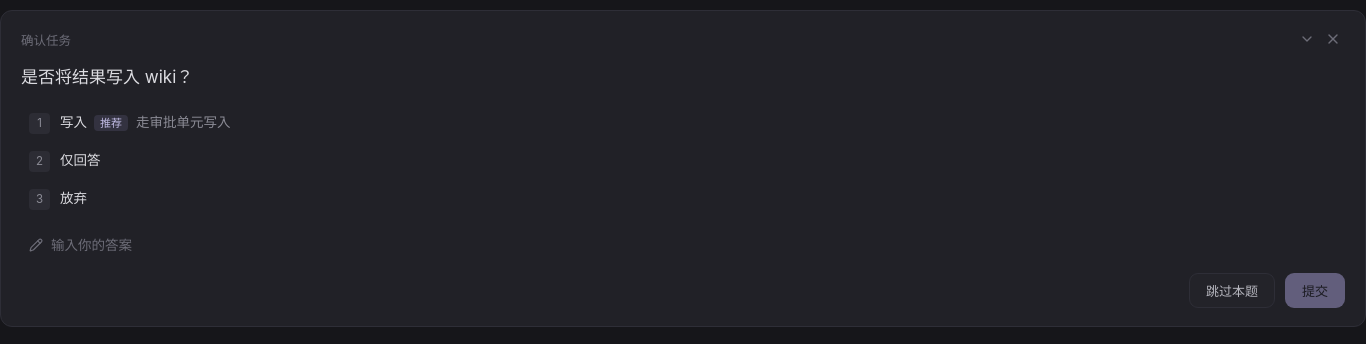
it: QuestionCard › keeps 提交 disabled until an option is picked or text is typed
Expected: the button "提交" is disabled, [1285,272,1345,308]
Click the radio button labelled "2 仅回答" at {"x": 80, "y": 160}, box [21,142,1345,178]
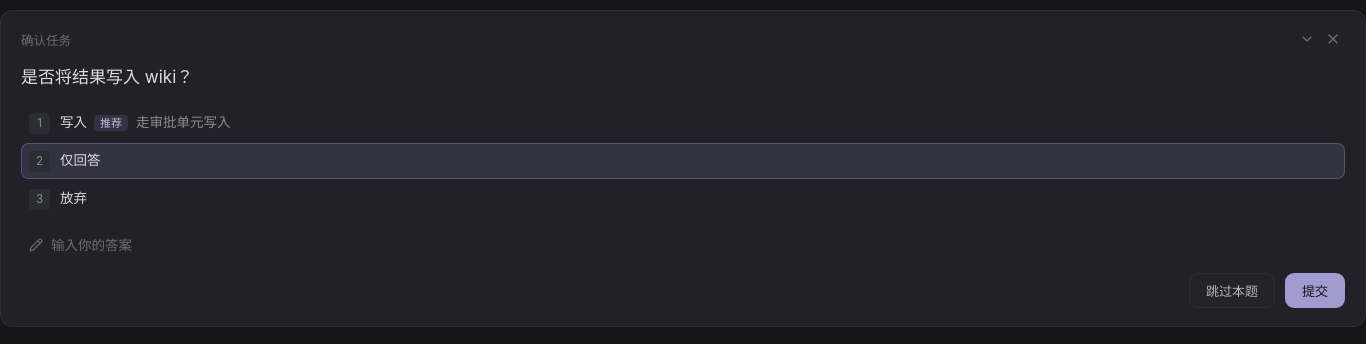
Now the button "提交" is enabled, box [1285,272,1345,308]
